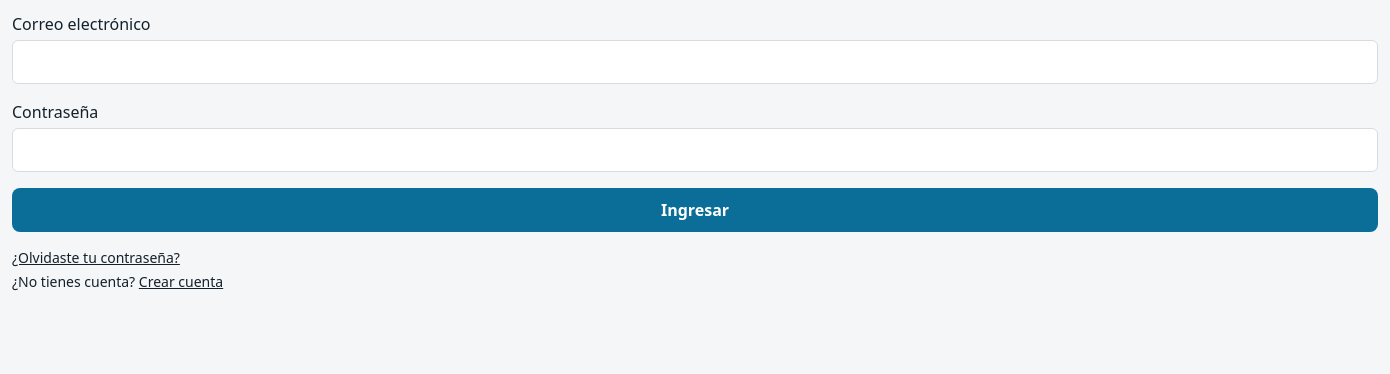
Test: LoginForm › FR-005: credenciales incorrectas muestran el mensaje uniforme
Type "nadie@ejemplo.com" into the field labelled "Correo electrónico" at (695, 62), box [12,40,1378,84]
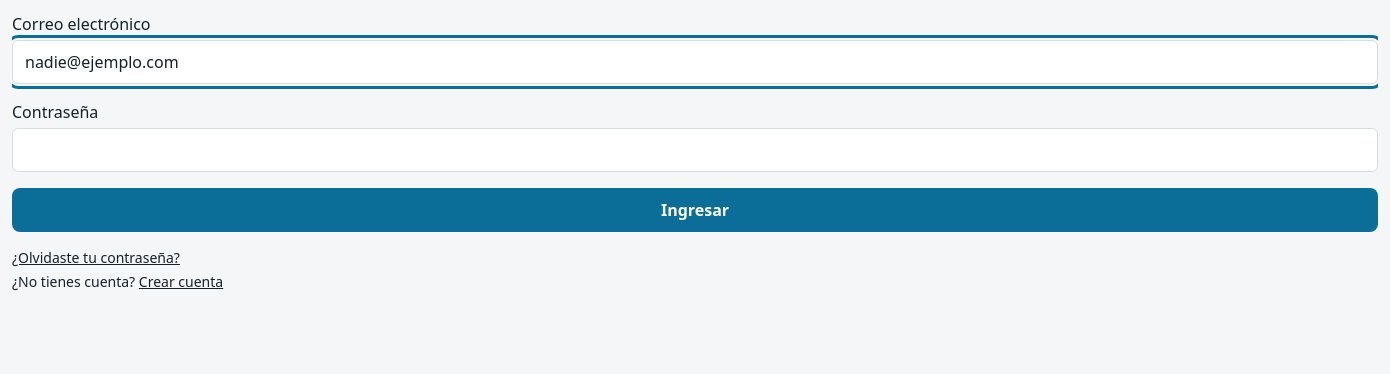
Type "cualquier-clave-larga" into the password field labelled "Contraseña" at (695, 150), box [12,128,1378,172]
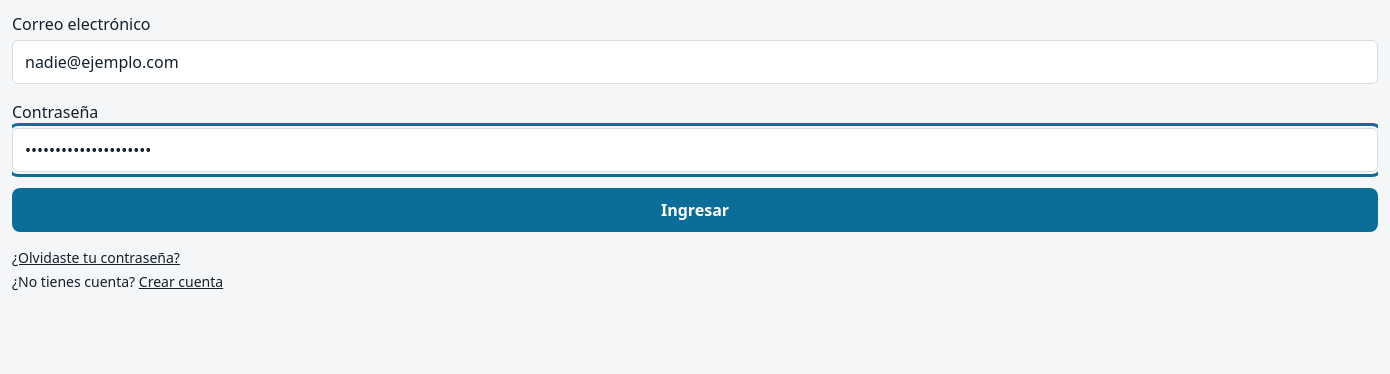
Click the button "Ingresar" at (695, 210), box [12,188,1378,232]
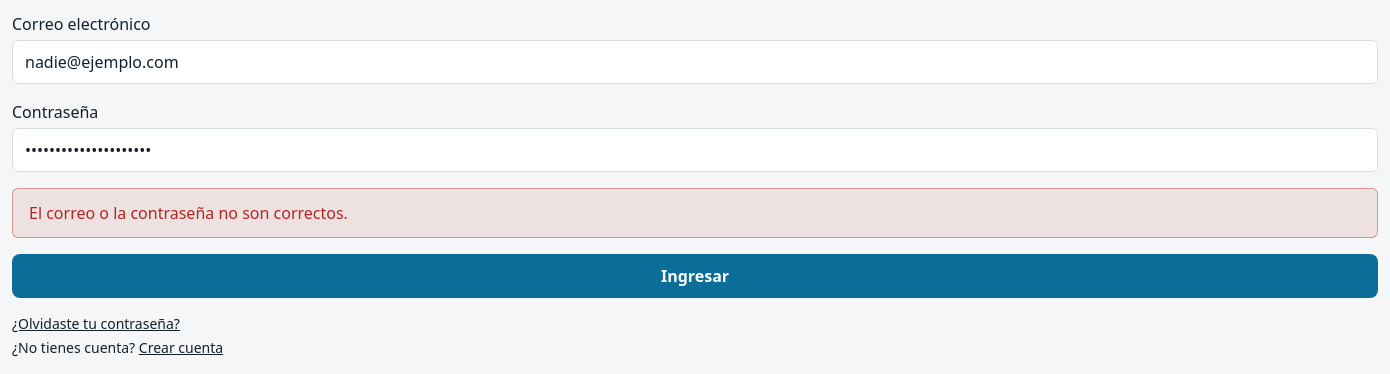
Now the message reads "El correo o la contraseña no son correctos.", box [29,202,348,224]
